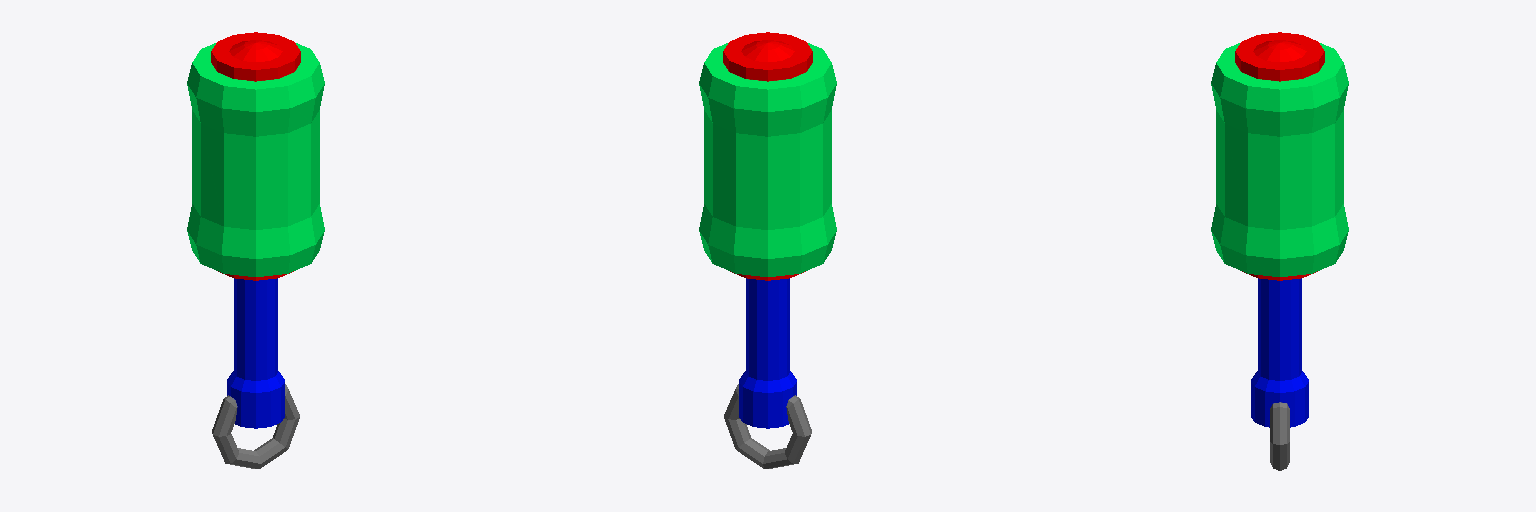
3 views of the same model, side by side, from view 1: azimuth 30°, elevation 25°; view 2: azimuth 150°, elevation 25°; view 3: azimuth 270°, elevation 25° (orthographic).
Visible parts, largest first — view 1: RattleBell; view 2: RattleBell; view 3: RattleBell.
Boxes of the visible parts, box(x1,y1,x2,y2) form: RattleBell: box(187, 32, 324, 468); RattleBell: box(699, 32, 836, 468); RattleBell: box(1211, 32, 1348, 470).
Size of the model in its own units: 2.16 by 7.38 by 2.16.
1 materials, 1 textured.